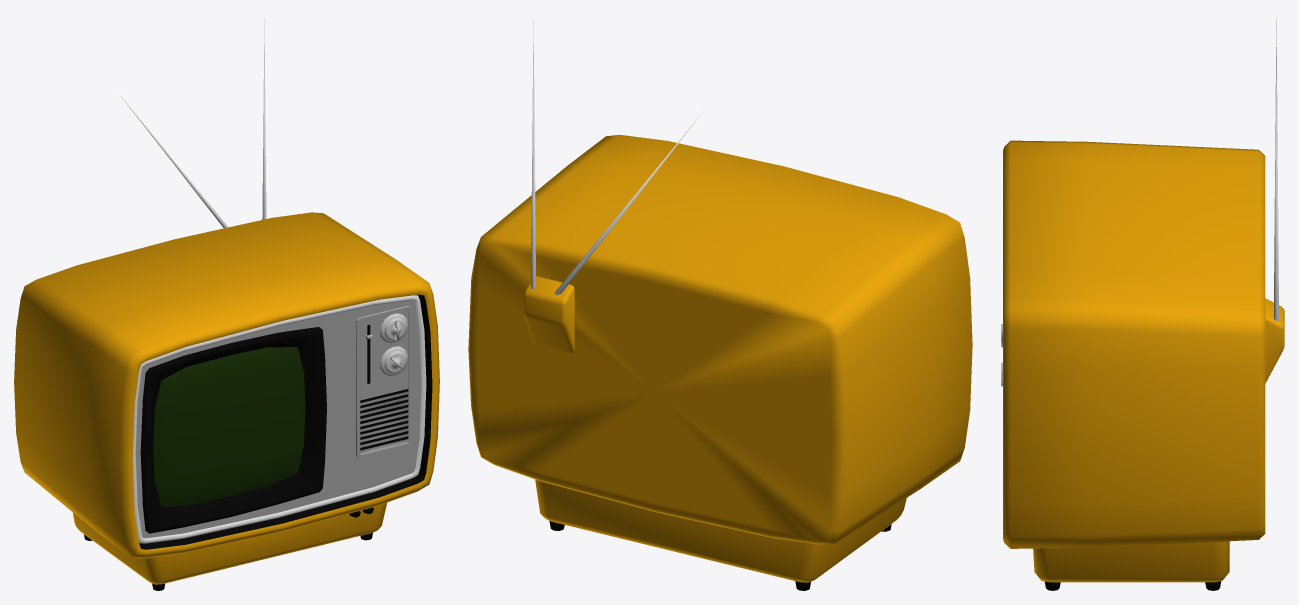
The model's file is RetroTV.fbx.
3 renders of one model, left to right at view 1: azimuth 30°, elevation 25°; view 2: azimuth 150°, elevation 25°; view 3: azimuth 270°, elevation 25°, orthographic. The views are drawn at different scales.
Visible parts, largest first — view 1: Retro_TV, Screen; view 2: Retro_TV; view 3: Retro_TV.
Boxes of the visible parts, x1,y1,x2,y2 form: Retro_TV: [14, 18, 439, 590]; Screen: [153, 347, 305, 506]; Retro_TV: [468, 19, 972, 590]; Retro_TV: [1001, 19, 1284, 590].
Size of the model in its own units: 1102 by 1498 by 720.
